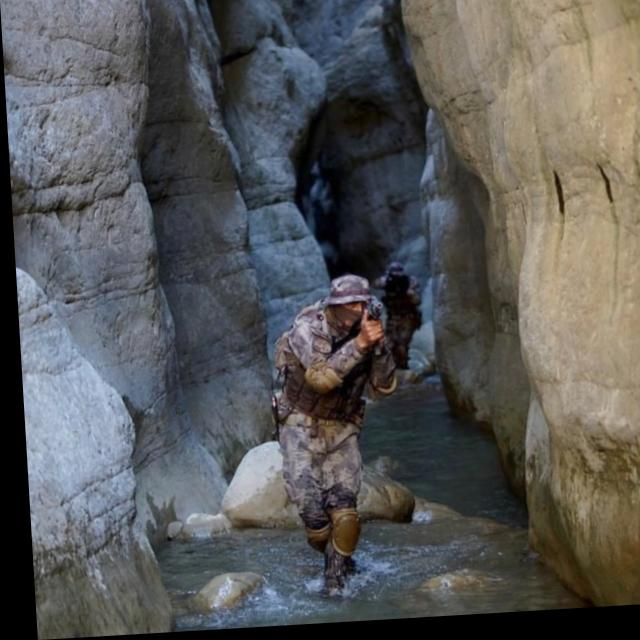poh_personel: (263, 276, 399, 605)
